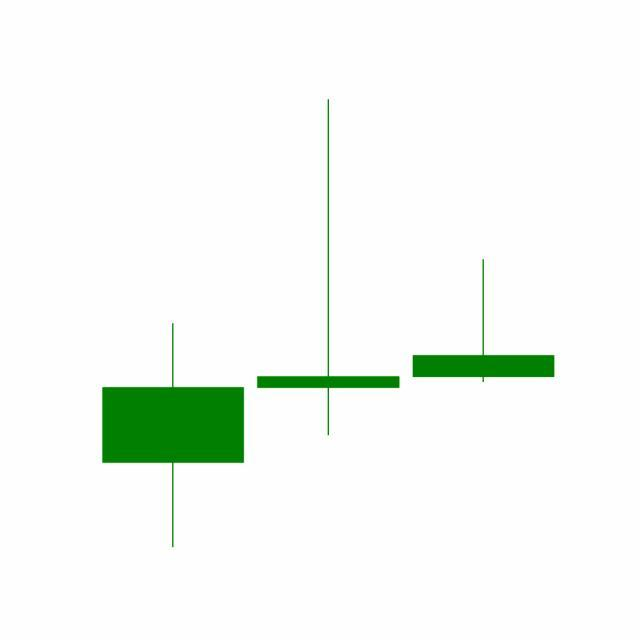Spinning Top: (250, 96, 407, 439)
